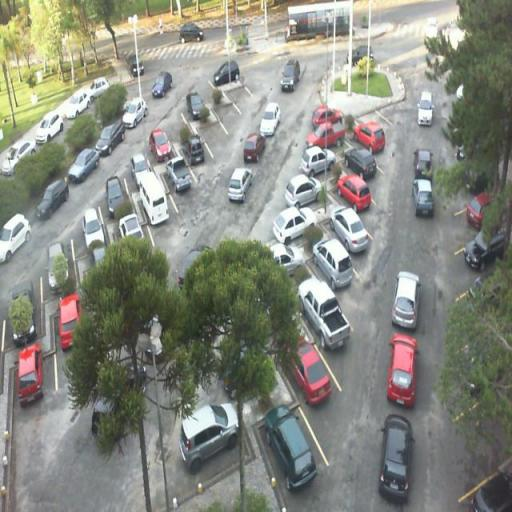Slot-empty: (203, 97, 260, 139), (219, 80, 268, 118), (190, 122, 240, 156)
Slot-occupied: (252, 394, 330, 498), (172, 391, 252, 485), (274, 328, 342, 423), (290, 280, 359, 350), (8, 345, 62, 412), (308, 233, 363, 289), (349, 108, 401, 164), (326, 208, 378, 253), (337, 142, 391, 180), (330, 173, 382, 210)
